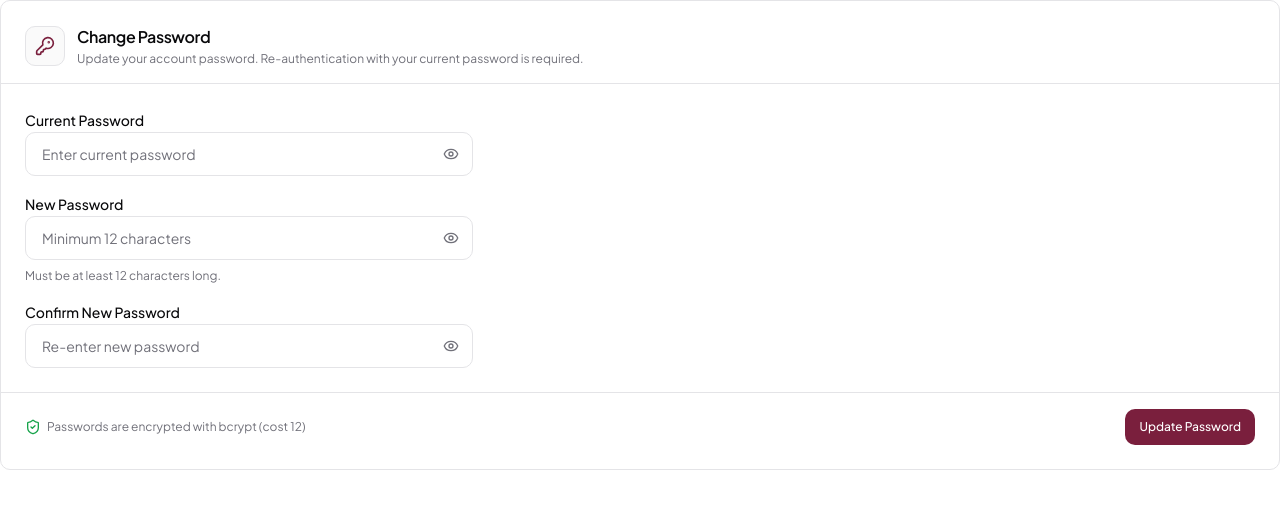
ChangePasswordForm (F13.2) › handles wrong current password server error safely
In the password field labelled "Current Password": (249, 154) 25,132 -> 473,176, type "WrongPassword123!"
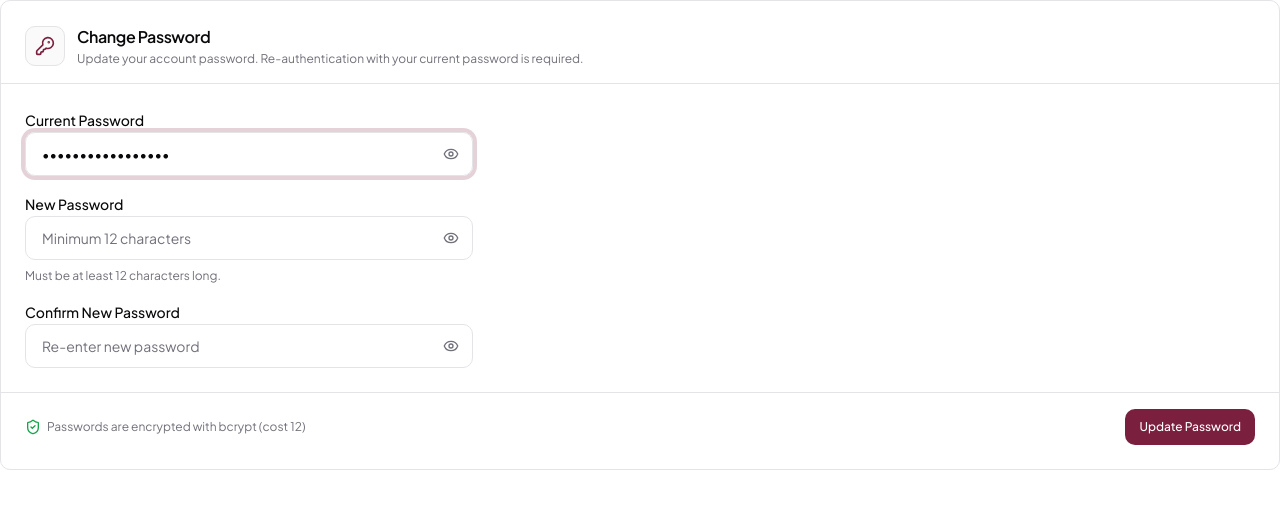
In the password field labelled "New Password": (249, 238) 25,216 -> 473,260, type "BrandNewSecurePassword2026!"
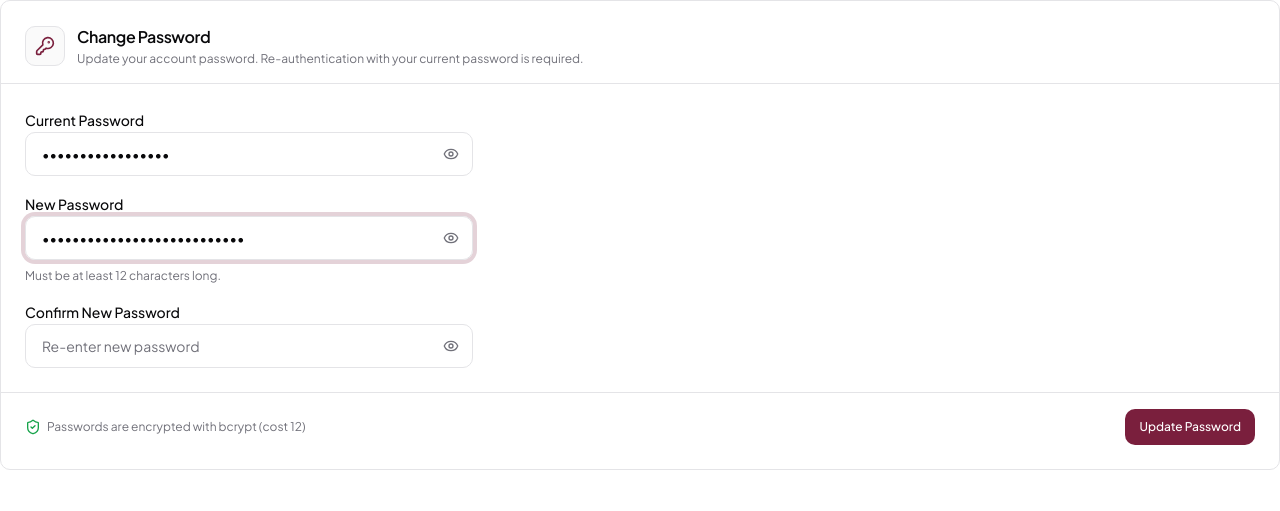
In the password field labelled "Confirm New Password": (249, 346) 25,324 -> 473,368, type "BrandNewSecurePassword2026!"
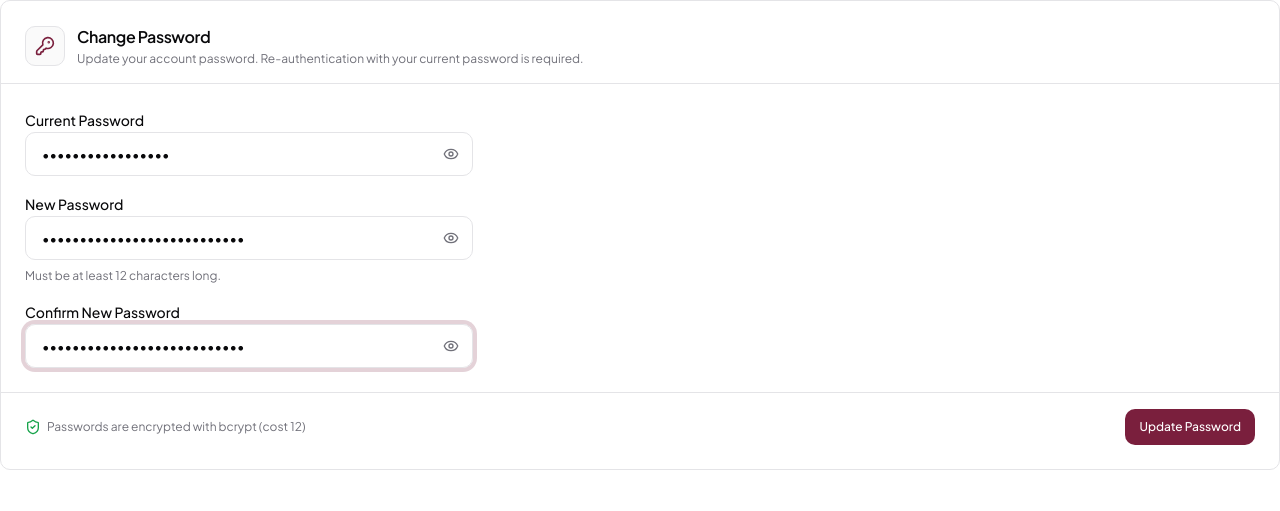
Click the button "Update Password": (1190, 427) 1126,409 -> 1255,445
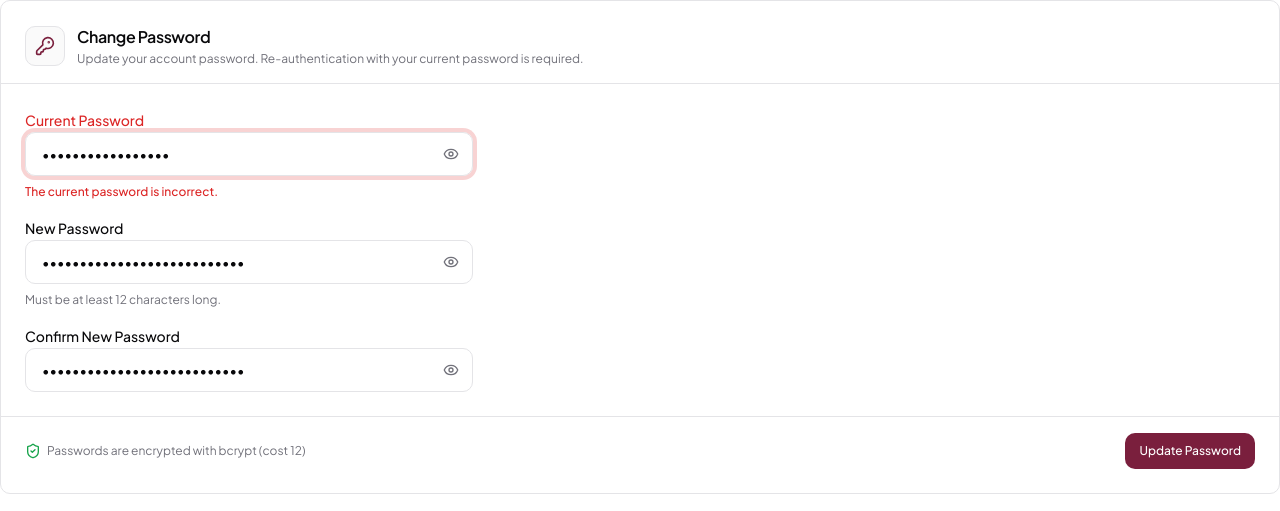
expect the text "The current password is incorrect." is shown: met, box 25,184 -> 218,199
